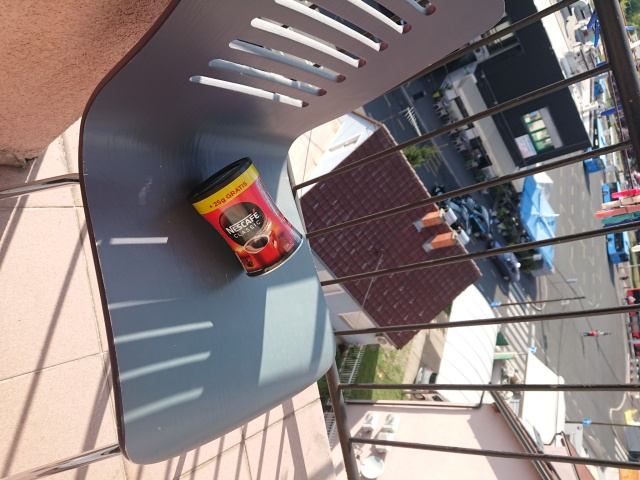Nescafe Classic 225g: (184, 153, 306, 280)
